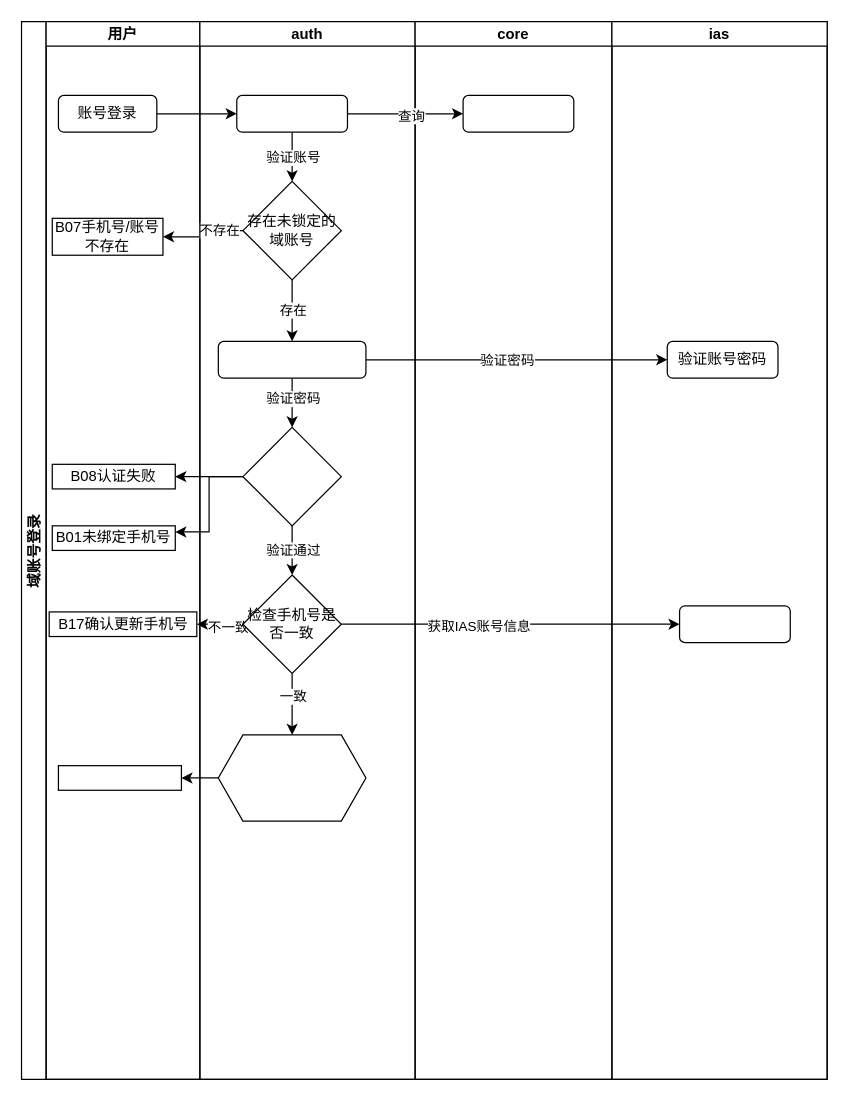
Image size: 849x1101. Some labels were removed from this diagram. The centre of each missing label's shape, as x and y in pixels:
"A01成功" belongs at (119,777).
"区分内外勤" belongs at (291,359).
"查询账号信息" belongs at (518,113).
"查询账号详情" belongs at (734,624).
"检查ias状态" belongs at (291,476).
"登录成功" belongs at (291,777).
"解密" belongs at (291,113).
